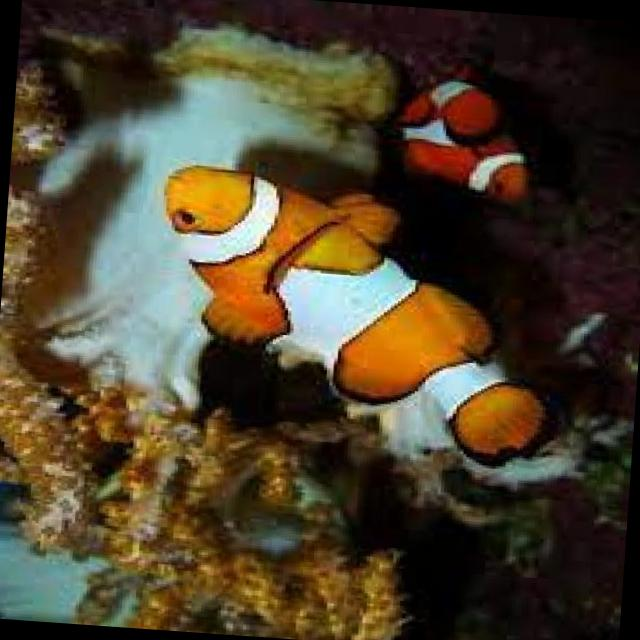ClownFish: (147, 172, 580, 472), (389, 66, 531, 202)
